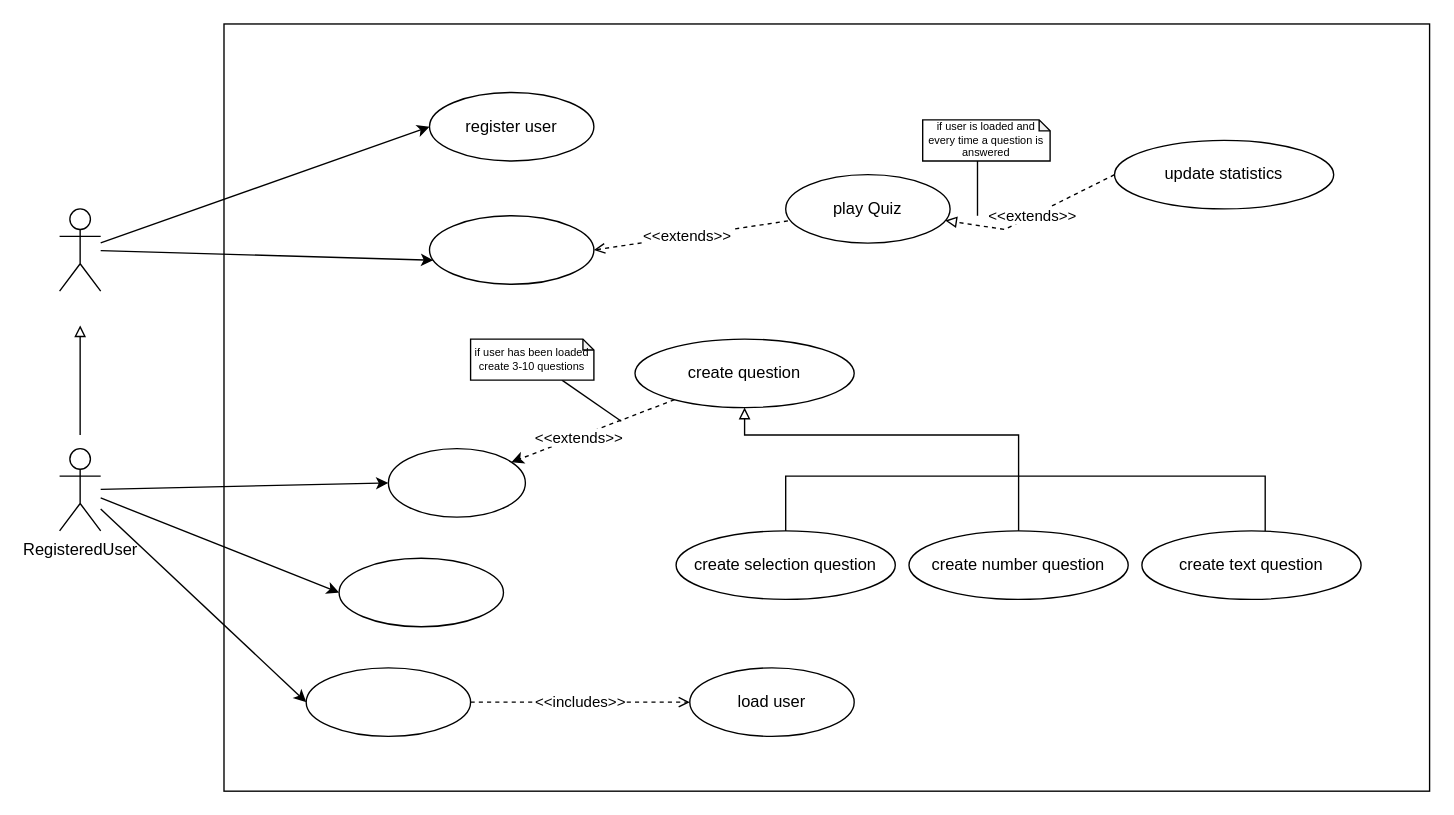
This 1454x815 diagram has some shape labels left out. Here are the shapes that lost their labels. From the top down, the centre of each, then its label:
the point at 79,249: User
the point at 511,249: select Quiz
the point at 456,482: create Quiz
the point at 420,592: show statistics
the point at 388,701: login
